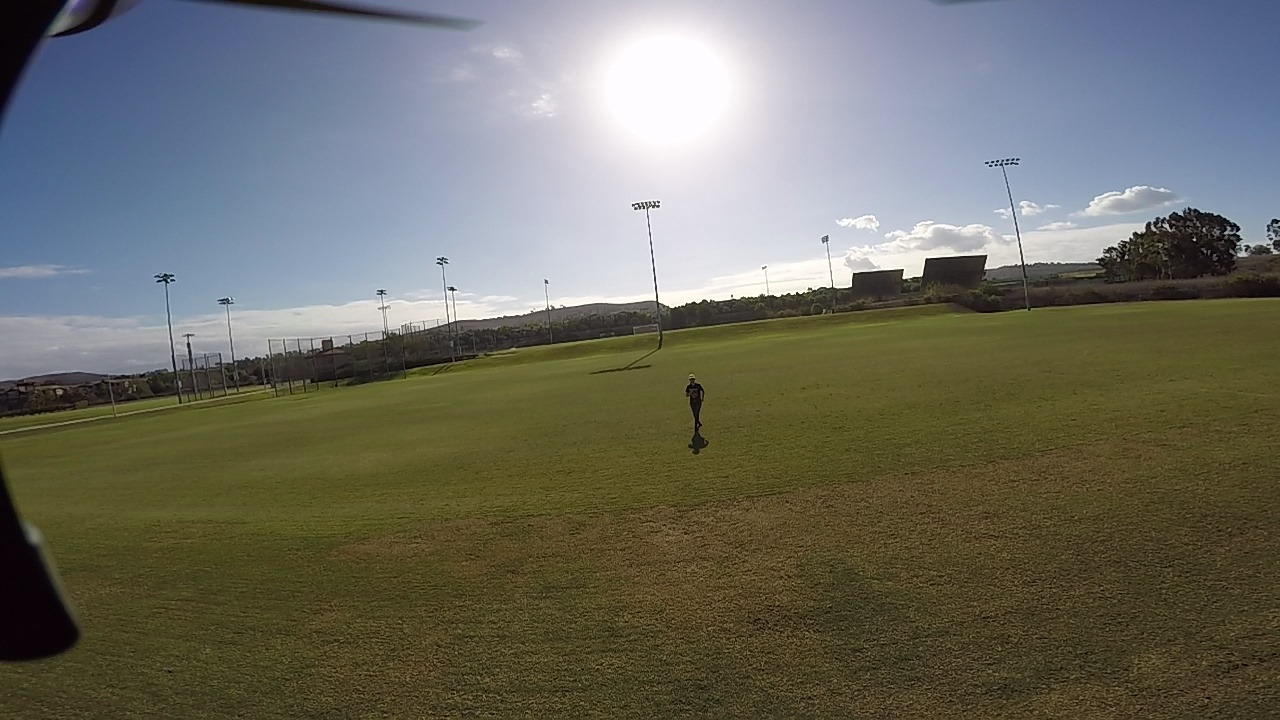person: (683, 368, 704, 444)
